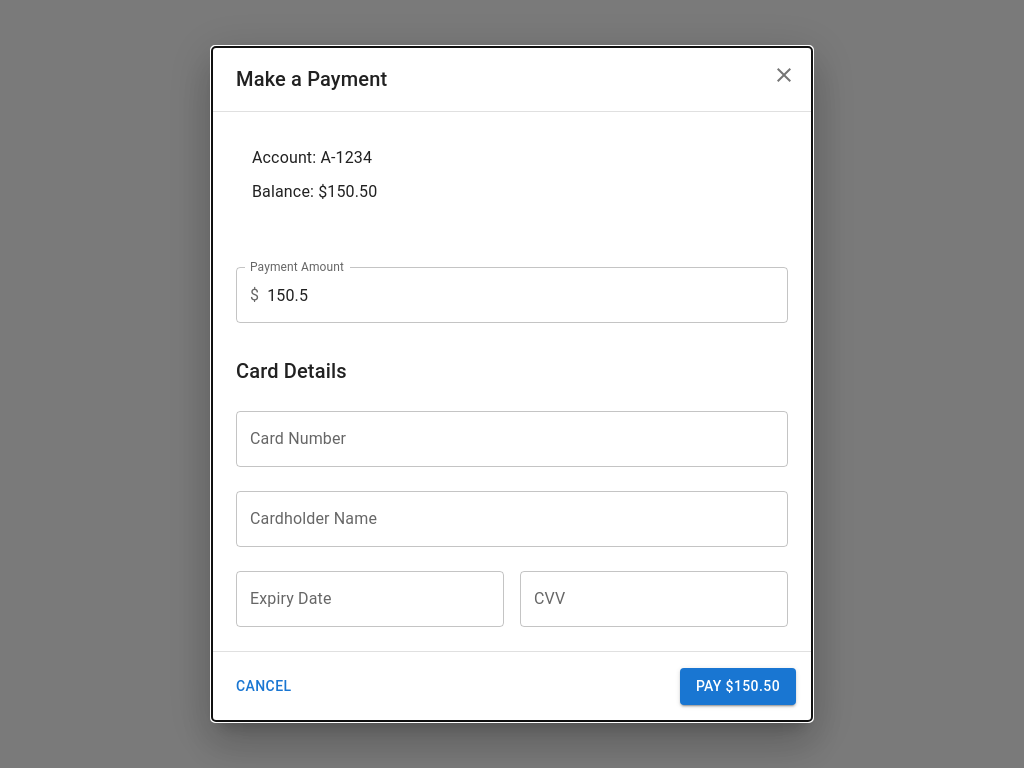
Test: PaymentModal Component › validates form and shows errors for invalid inputs
# Clear amount field
Replace the text in the number field labelled "Payment Amount" with "0" at [528, 295], box [267,267,788,323]
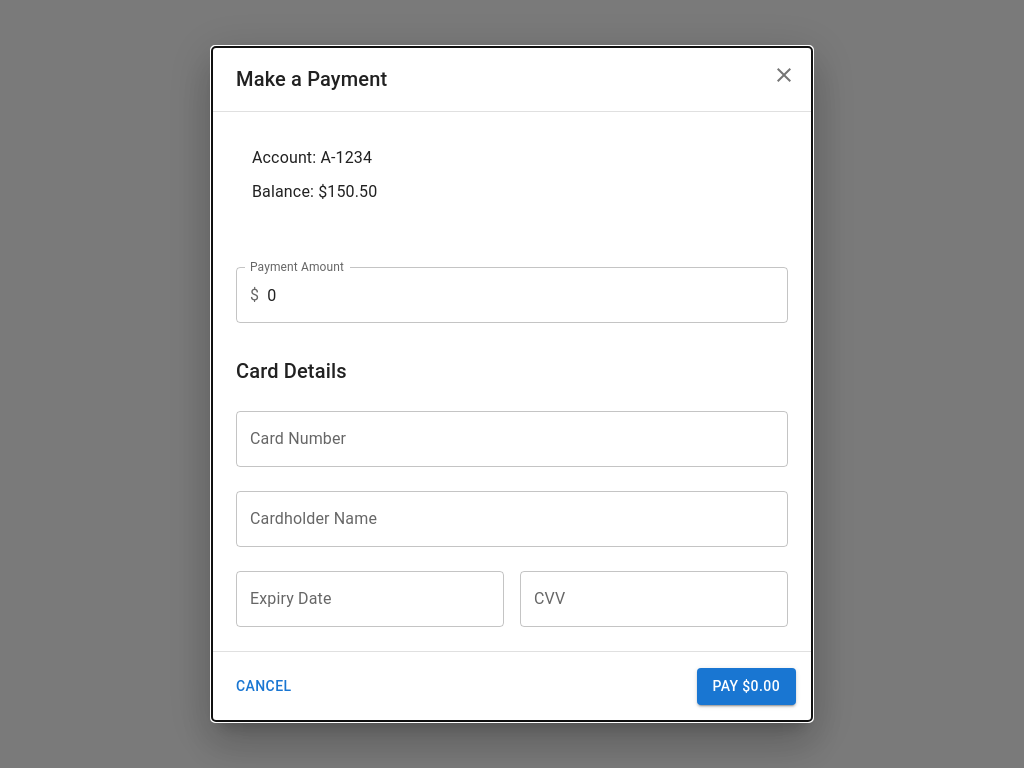
# Submit the form with empty/invalid fields
Click the button "Pay $0.00" at [746, 687], box [697,668,796,705]
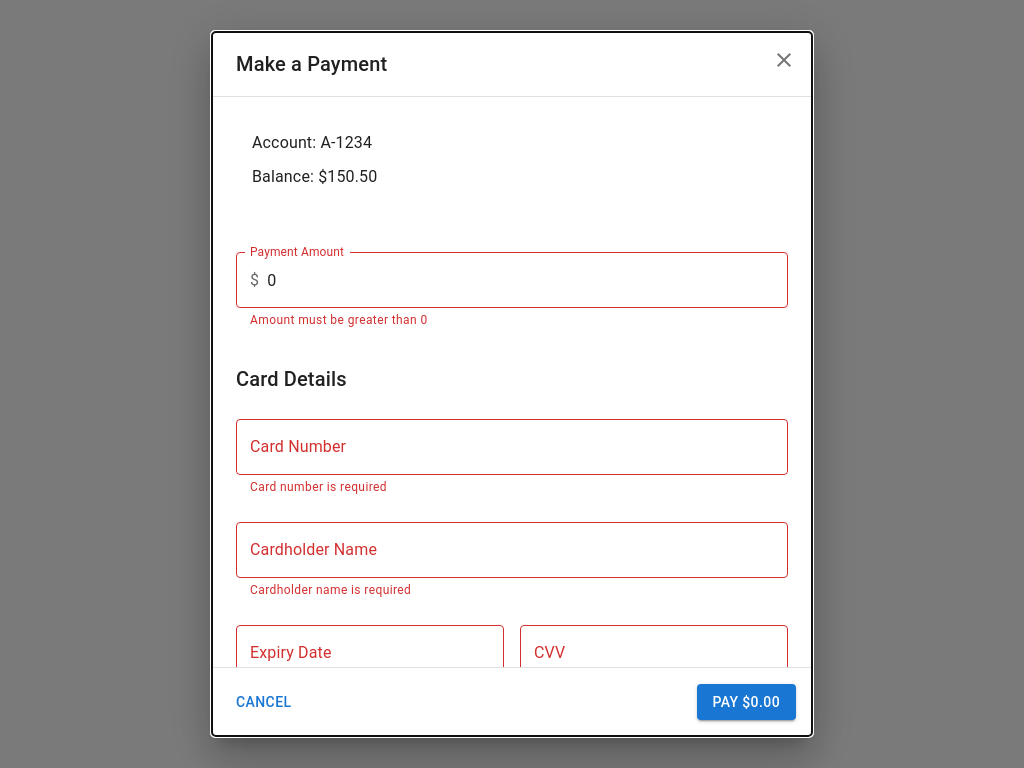
Result: the text "Amount must be greater than 0" is shown at [250,313,428,327]
Result: the text "Card number is required" is shown at [250,480,387,494]
Result: the text "Cardholder name is required" is shown at [250,583,411,597]
